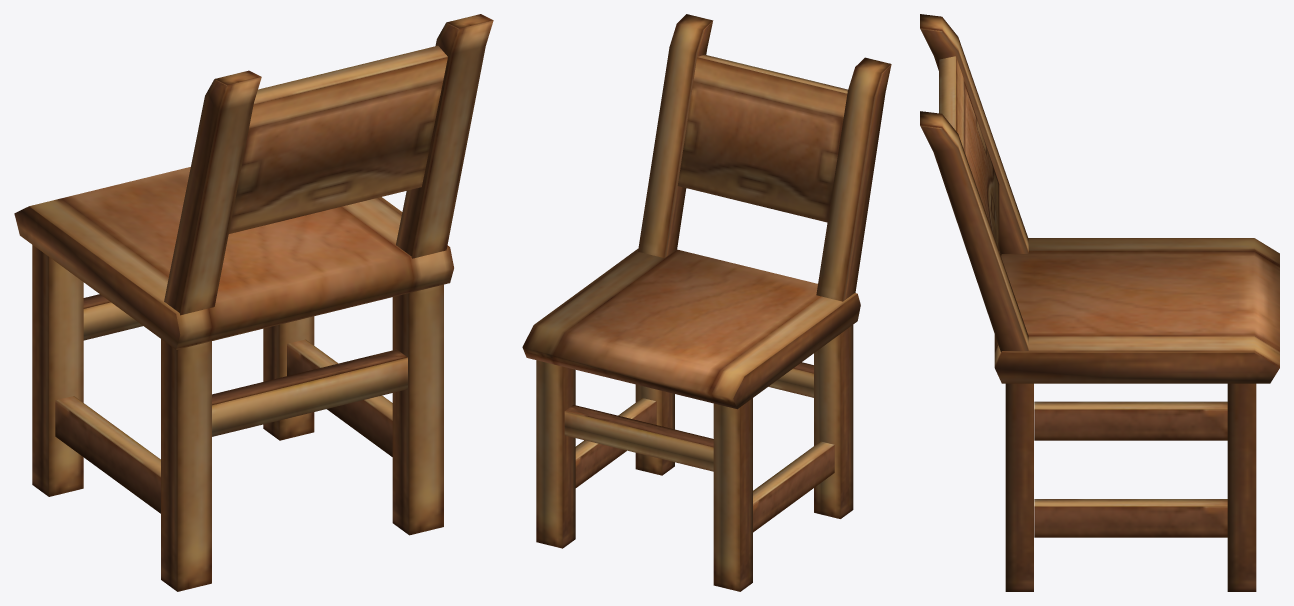
The model's file is c_SWIchair01.glb.
The picture shows the model from 3 angles, left to right: view 1: azimuth 30°, elevation 25°; view 2: azimuth 150°, elevation 25°; view 3: azimuth 270°, elevation 25°; orthographic projection. The views are drawn at different scales.
Visible parts, largest first — view 1: c_SWIchair01; view 2: c_SWIchair01; view 3: c_SWIchair01.
Part boxes in pixels (x1=…): c_SWIchair01: x1=14, y1=14, x2=493, y2=591; c_SWIchair01: x1=522, y1=14, x2=891, y2=591; c_SWIchair01: x1=920, y1=14, x2=1279, y2=591.
Bounding box in the file's own units: 0.4423 × 0.8379 × 0.5858.
Materials: 1 (1 with a texture image).
